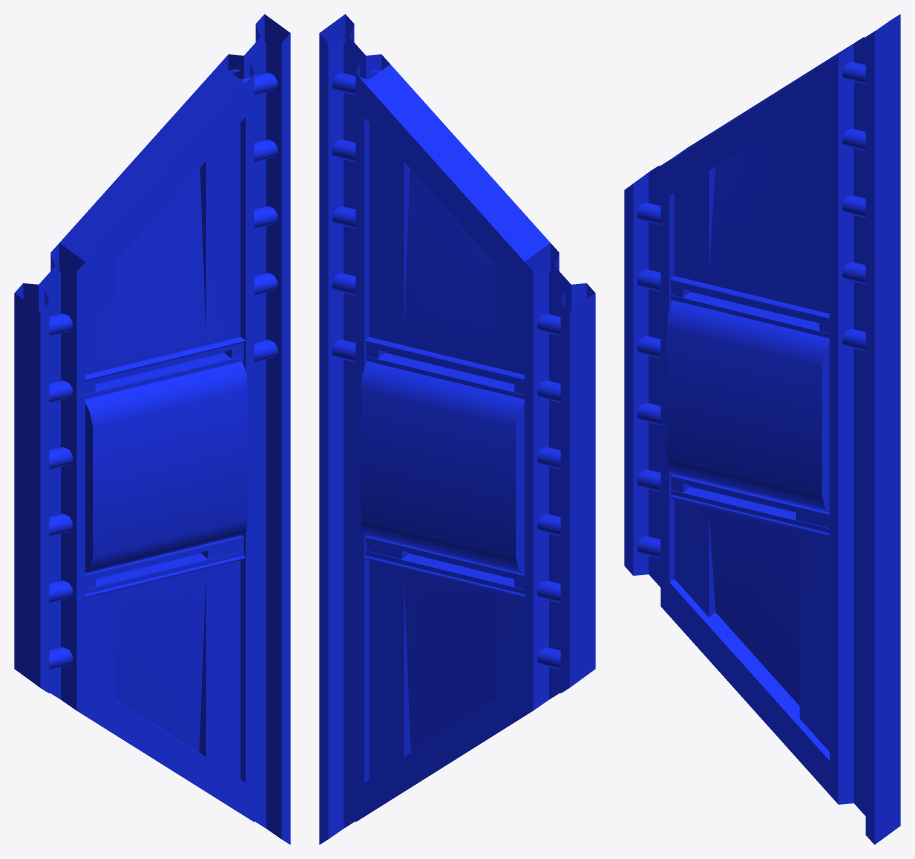
Rendered from Door_Section.FBX.
3 views of the same model, side by side, from view 1: azimuth 30°, elevation 25°; view 2: azimuth 150°, elevation 25°; view 3: azimuth 330°, elevation 25° (orthographic).
Visible parts, largest first — view 1: Object23172; view 2: Object23172; view 3: Object23172.
Boxes of the visible parts, left/top/right/bottom form: Object23172: left=14, top=14, right=290, bottom=844; Object23172: left=319, top=14, right=595, bottom=844; Object23172: left=624, top=14, right=900, bottom=844.
Size of the model in its own units: 43.79 by 136 by 11.2.
